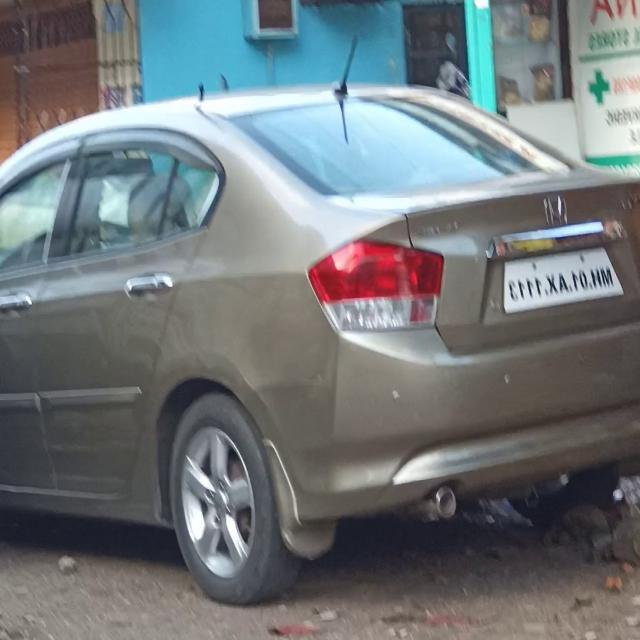license_plate: (494, 237, 625, 324)
